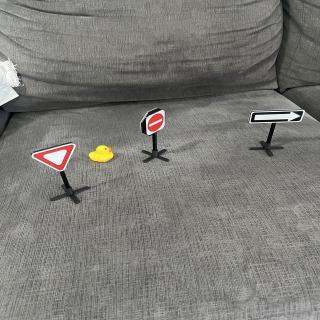duck_regular: (88, 144, 117, 167)
sign_noentry: (146, 109, 167, 138)
sign_oneway_right: (250, 110, 307, 126)
sign_yield: (32, 143, 77, 173)
